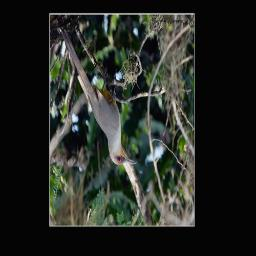Cuckoo: (59, 24, 138, 167)
